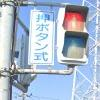traffic lights: (58, 3, 91, 66)
